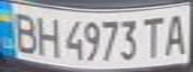3: (118, 16, 142, 62)
4: (60, 16, 84, 61)
7: (100, 17, 121, 63)
9: (81, 17, 103, 62)
A: (160, 9, 193, 56)
B: (6, 8, 42, 55)
H: (33, 11, 63, 57)
T: (139, 12, 169, 60)
